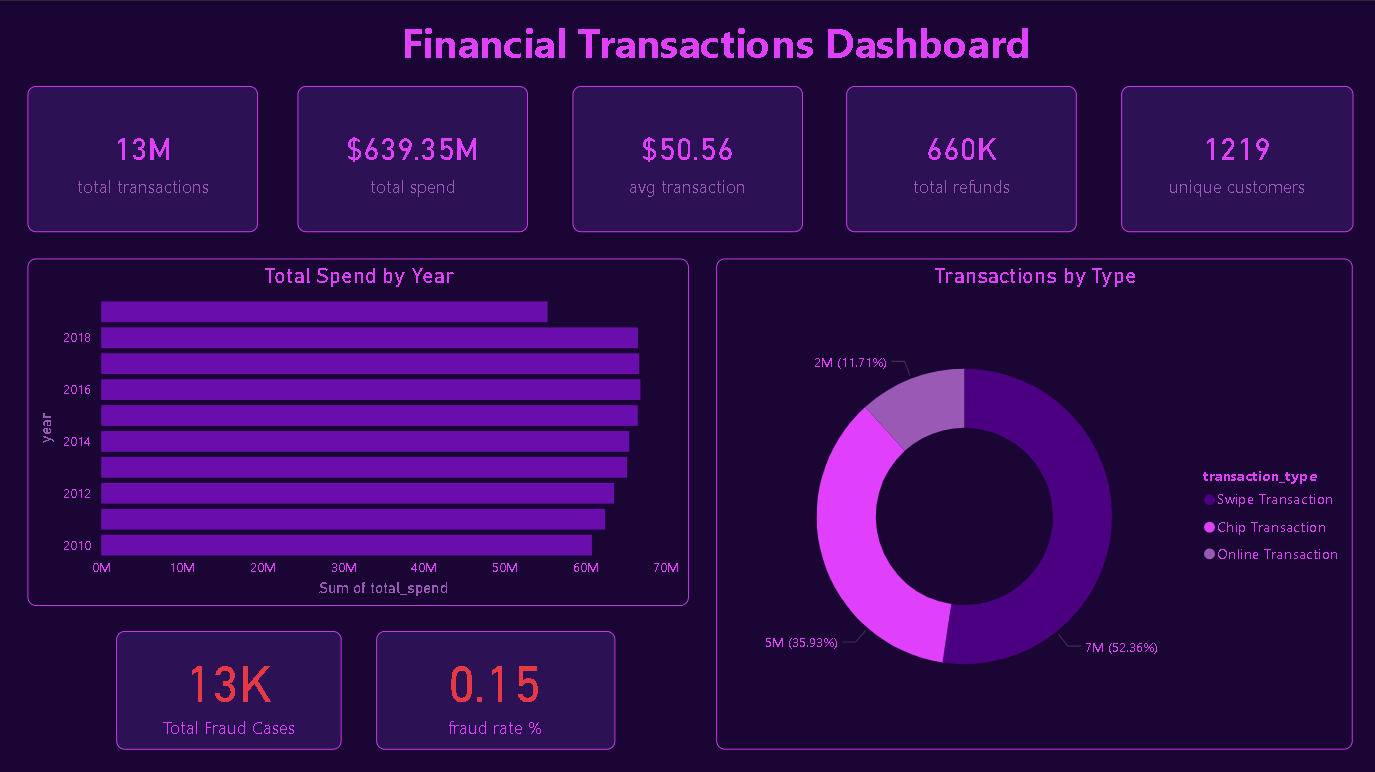

What the dashboard file says about the page in this screenshot:
{"tool":"powerbi","page":{"name":"Executive KPIs","canvas":[1280,720],"ordinal":0},"visuals":[{"type":"textbox","box":[368.6,8.1,596.5,62.8],"z":0},{"type":"clusteredBarChart","title":"Total Spend by Year","fields":{"Category":["Monthly Trends.year"],"Y":["Sum(Monthly Trends.total_spend)"]},"box":[25.6,239.5,615.1,323.3],"z":1000},{"type":"donutChart","title":"Transactions by Type","fields":{"Y":["Sum(Fraud by Txn Type.total_txns)"],"Category":["Fraud by Txn Type.transaction_type"]},"box":[666.3,239.5,591.9,457],"z":2000},{"type":"card","fields":{"Values":["Sum(KPI Summary.total_transactions)"]},"box":[25.3,79.6,214.6,136.2],"z":3000},{"type":"card","fields":{"Values":["Sum(KPI Summary.unique_customers)"]},"box":[1042.8,79.6,215.8,136.2],"z":4000},{"type":"card","fields":{"Values":["Sum(KPI Summary.fraud_rate_pct)"]},"box":[350,586,222.1,110.5],"z":5000},{"type":"card","fields":{"Values":["Sum(KPI Summary.total_spend)"]},"box":[277.3,79.6,214.6,136.2],"z":6000},{"type":"card","fields":{"Values":["Sum(KPI Summary.total_refunds)"]},"box":[787.2,79.6,214.6,136.2],"z":7000},{"type":"card","fields":{"Values":["Sum(KPI Summary.avg_transaction)"]},"box":[532.8,79.6,214.6,136.2],"z":8000},{"type":"card","fields":{"Values":["Sum(KPI Summary.total_fraud_txns)"]},"box":[108.1,586,209.3,110.5],"z":9000}]}

Visuals, with their boxes in screenshot pixels (x1, y1, x2, y2), scaled from the page's 1280x720 canvas onto the 1375x772 screenshot:
textbox: pyautogui.locateOnScreen(396, 9, 1037, 76)
"Total Spend by Year" clusteredBarChart: pyautogui.locateOnScreen(28, 257, 688, 603)
"Transactions by Type" donutChart: pyautogui.locateOnScreen(716, 257, 1352, 747)
card - Sum(KPI Summary.total_transactions): pyautogui.locateOnScreen(27, 85, 258, 231)
card - Sum(KPI Summary.unique_customers): pyautogui.locateOnScreen(1120, 85, 1352, 231)
card - Sum(KPI Summary.fraud_rate_pct): pyautogui.locateOnScreen(376, 628, 615, 747)
card - Sum(KPI Summary.total_spend): pyautogui.locateOnScreen(298, 85, 528, 231)
card - Sum(KPI Summary.total_refunds): pyautogui.locateOnScreen(846, 85, 1076, 231)
card - Sum(KPI Summary.avg_transaction): pyautogui.locateOnScreen(572, 85, 803, 231)
card - Sum(KPI Summary.total_fraud_txns): pyautogui.locateOnScreen(116, 628, 341, 747)
